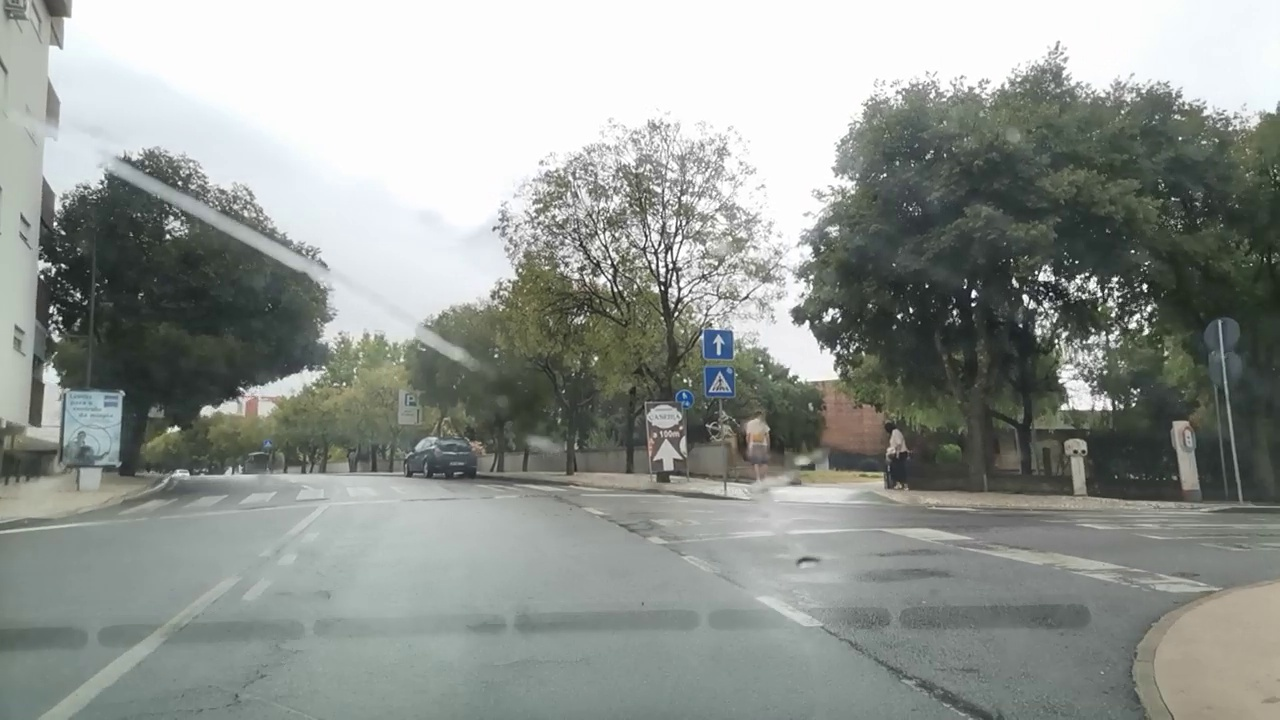Stairs: (125, 480, 567, 518)
